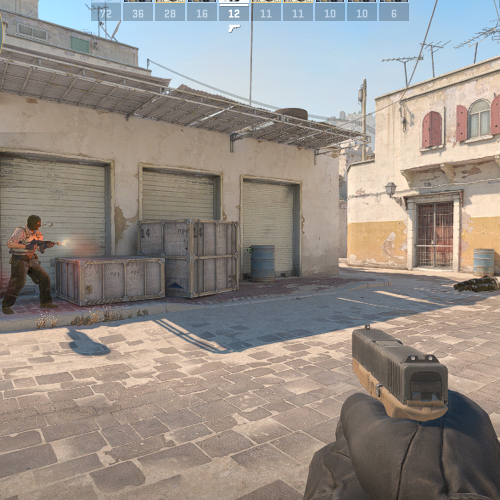t_body: (6, 212, 56, 314)
t_head: (26, 213, 42, 230)
